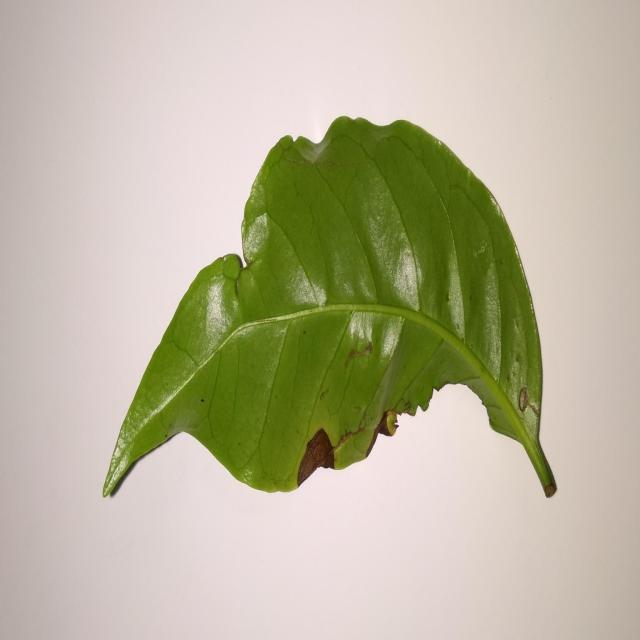Enfermedad-Antracnosis: (101, 118, 557, 500)
